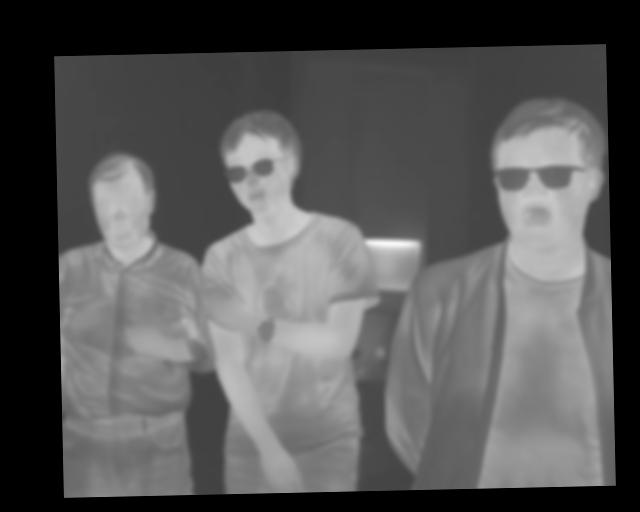face: (488, 95, 607, 253), (215, 106, 302, 213), (87, 150, 157, 252)
